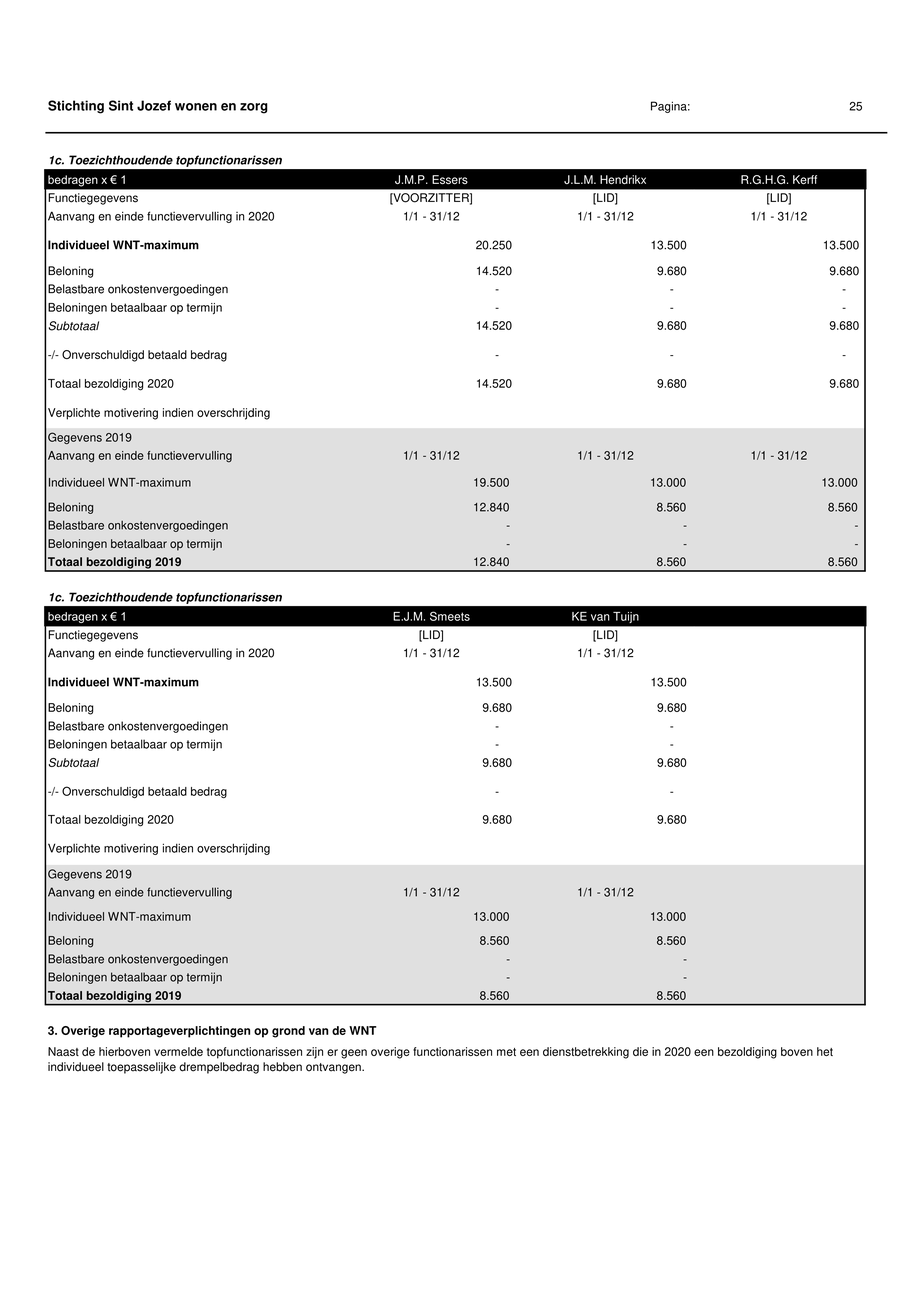coulmn: (41, 169, 279, 572), (45, 611, 282, 1003), (381, 609, 537, 1002), (559, 609, 707, 1006), (555, 173, 702, 571), (384, 170, 529, 571), (724, 172, 864, 571)
